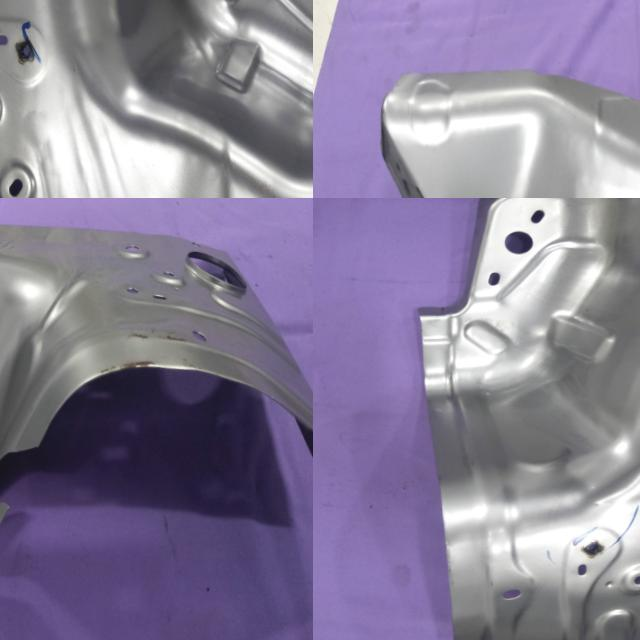Defect: (0, 443, 41, 514)
Healthy: (404, 198, 640, 640), (0, 0, 313, 198)
rust: (74, 314, 219, 396)
